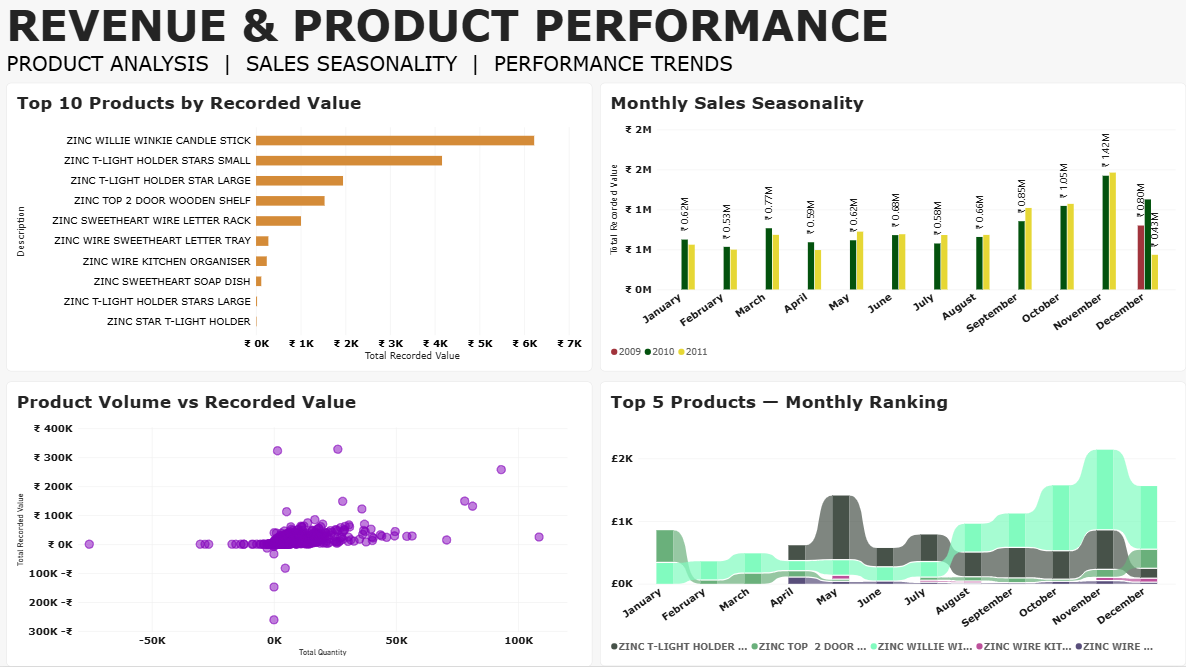

The page's visual inventory and layout, read from the dashboard file:
{"tool":"powerbi","page":{"name":"REVENUE & PRODUCT PERFORMANCE","canvas":[1920,1080],"ordinal":1},"visuals":[{"type":"textbox","title":"REVENUE & PRODUCT PERFORMANCE","box":[10.1,0,1910.3,135.6],"z":0},{"type":"clusteredBarChart","title":"Top 10 Products by Recorded Value","fields":{"Category":["online_retail_full.Description"],"Y":["online_retail_full.Total Recorded Value"]},"box":[10.1,212.5,949.1,435.1],"z":1000},{"type":"clusteredColumnChart","title":"Monthly Sales Seasonality","fields":{"Category":["online_retail_full.InvoiceDate.Variation.Date Hierarchy.Month"],"Series":["online_retail_full.InvoiceDate.Variation.Date Hierarchy.Year"],"Y":["online_retail_full.Total Recorded Value"]},"box":[971.3,212.5,949.1,435.1],"z":2000},{"type":"scatterChart","title":"Product Volume vs Recorded Value","fields":{"Category":["online_retail_full.Description"],"X":["online_retail_full.Total Quantity"],"Y":["online_retail_full.Total Recorded Value"]},"box":[10.1,647.6,949.1,433.1],"z":3000},{"type":"ribbonChart","title":"Top 5 Products — Monthly Ranking","fields":{"Category":["online_retail_full.InvoiceDate.Variation.Date Hierarchy.Month"],"Series":["online_retail_full.Description"],"Y":["online_retail_full.Total Recorded Value"]},"box":[971.3,647.6,949.1,433.1],"z":4000},{"type":"slicer","title":"YEAR","fields":{"Values":["online_retail_full.Year"]},"box":[10.1,121.4,949.1,91.1],"z":5000},{"type":"slicer","title":"COUNTRY","fields":{"Values":["online_retail_full.Country"]},"box":[965.3,121.4,955.1,91.1],"z":6000}]}

Visuals, with their boxes in screenshot pixels (x1, y1, x2, y2), scaled from the page's 1920x1080 canvas onto the 1186x667 screenshot:
"REVENUE & PRODUCT PERFORMANCE" textbox: rect(6, 0, 1185, 84)
"Top 10 Products by Recorded Value" clusteredBarChart: rect(6, 131, 593, 400)
"Monthly Sales Seasonality" clusteredColumnChart: rect(600, 131, 1185, 400)
"Product Volume vs Recorded Value" scatterChart: rect(6, 400, 593, 666)
"Top 5 Products — Monthly Ranking" ribbonChart: rect(600, 400, 1185, 666)
"YEAR" slicer: rect(6, 75, 593, 131)
"COUNTRY" slicer: rect(596, 75, 1185, 131)
